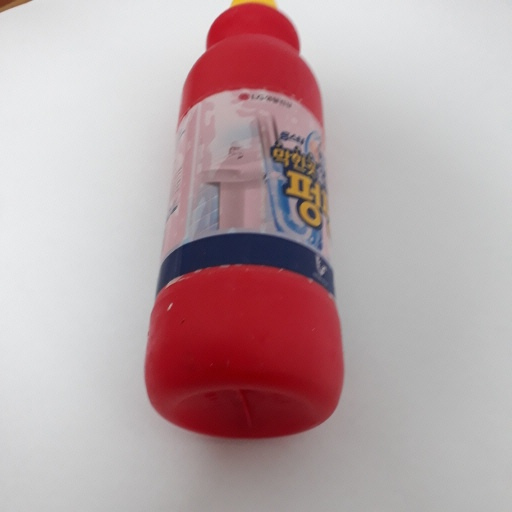Plastic_0: (146, 1, 348, 439)
